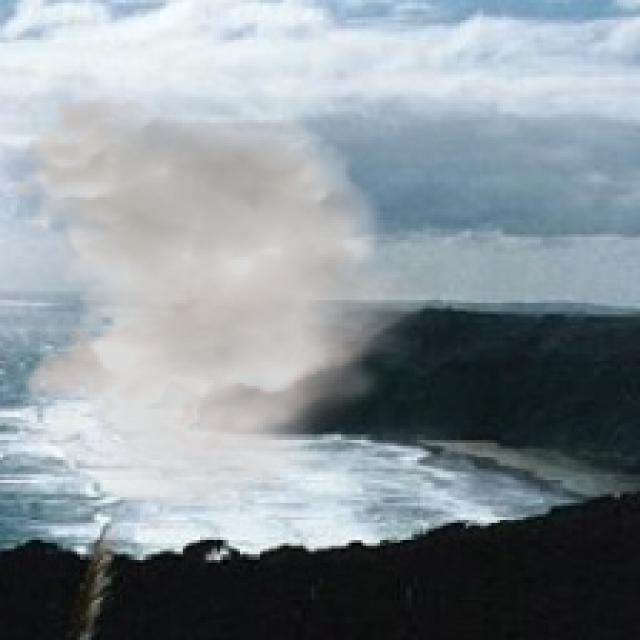smoke: (12, 94, 437, 509)
